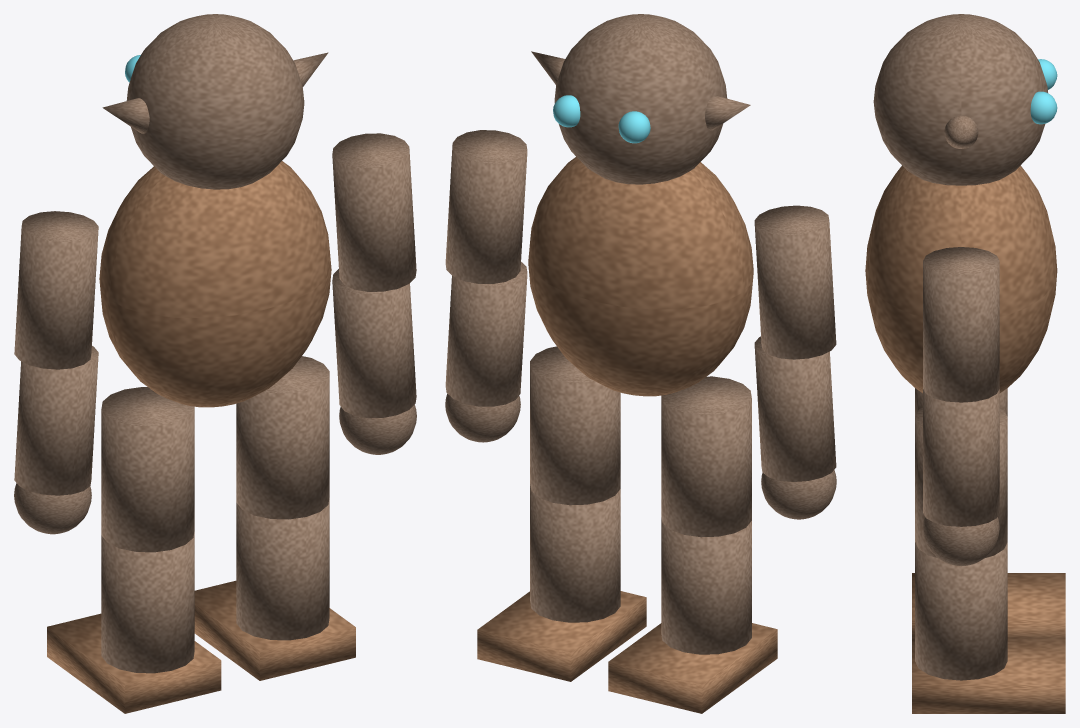
File: goblin-sneak.glb
3 renders of one model, left to right at view 1: azimuth 30°, elevation 25°; view 2: azimuth 150°, elevation 25°; view 3: azimuth 270°, elevation 25°, orthographic. The views are drawn at different scales.
Parts seen in each view (by area): view 1: Torso, Head, ThighL, ThighR, UpperArmR, UpperArmL, ShinR, ShinL, ForearmR, ForearmL, FootL, FootR (+3 smaller); view 2: Torso, Head, ThighL, ThighR, UpperArmR, UpperArmL, ShinR, ShinL, ForearmR, ForearmL, FootR, FootL (+5 smaller); view 3: Torso, Head, UpperArmR, ShinR, ForearmR, FootR, FootL, HandR, ThighR, Ear.001, Eye.001, ThighL (+1 smaller).
Part boxes in pixels (x1=…): Torso: x1=99, y1=161, x2=331, y2=407; Head: x1=126, y1=14, x2=304, y2=189; ThighL: x1=101, y1=387, x2=194, y2=552; ThighR: x1=236, y1=356, x2=329, y2=519; UpperArmR: x1=332, y1=133, x2=416, y2=291; UpperArmL: x1=14, y1=211, x2=98, y2=369; ShinR: x1=236, y1=498, x2=329, y2=640; ShinL: x1=101, y1=532, x2=194, y2=673; ForearmR: x1=332, y1=269, x2=416, y2=418; ForearmL: x1=14, y1=346, x2=98, y2=495; FootL: x1=47, y1=613, x2=221, y2=713; FootR: x1=194, y1=580, x2=355, y2=680; Torso: x1=528, y1=157, x2=753, y2=396; Head: x1=554, y1=14, x2=727, y2=184; ThighL: x1=661, y1=376, x2=751, y2=537; ThighR: x1=530, y1=346, x2=620, y2=505; UpperArmR: x1=445, y1=130, x2=527, y2=283; UpperArmL: x1=754, y1=205, x2=836, y2=359; ShinR: x1=530, y1=484, x2=620, y2=622; ShinL: x1=661, y1=517, x2=751, y2=654; ForearmR: x1=445, y1=262, x2=527, y2=406; ForearmL: x1=754, y1=336, x2=836, y2=481; FootR: x1=477, y1=591, x2=646, y2=681; FootL: x1=608, y1=623, x2=777, y2=713; Torso: x1=865, y1=165, x2=1057, y2=393; Head: x1=873, y1=14, x2=1047, y2=185; UpperArmR: x1=923, y1=247, x2=999, y2=402; ShinR: x1=915, y1=542, x2=1007, y2=680; ForearmR: x1=923, y1=389, x2=999, y2=526; FootR: x1=912, y1=637, x2=1065, y2=713; FootL: x1=912, y1=573, x2=1065, y2=637; HandR: x1=923, y1=517, x2=999, y2=566; ThighR: x1=915, y1=407, x2=1007, y2=557; Ear.001: x1=944, y1=115, x2=978, y2=148; Eye.001: x1=1030, y1=91, x2=1057, y2=124; ThighL: x1=915, y1=388, x2=1007, y2=416.
Size of the model in its own units: 0.6367 by 1 by 0.2852.
Materials: 3 (2 with a texture image).
